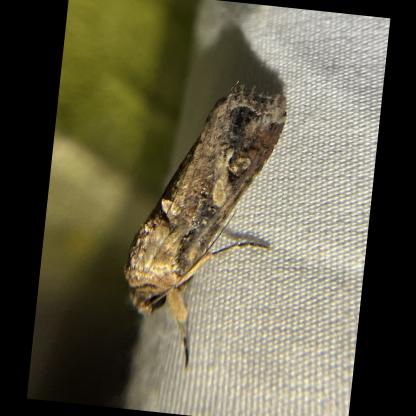Fall Armyworm Moth: (109, 67, 292, 382)
